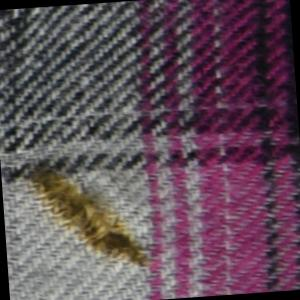Damage: (33, 163, 149, 274)
Oil Stain: (20, 151, 166, 282)
